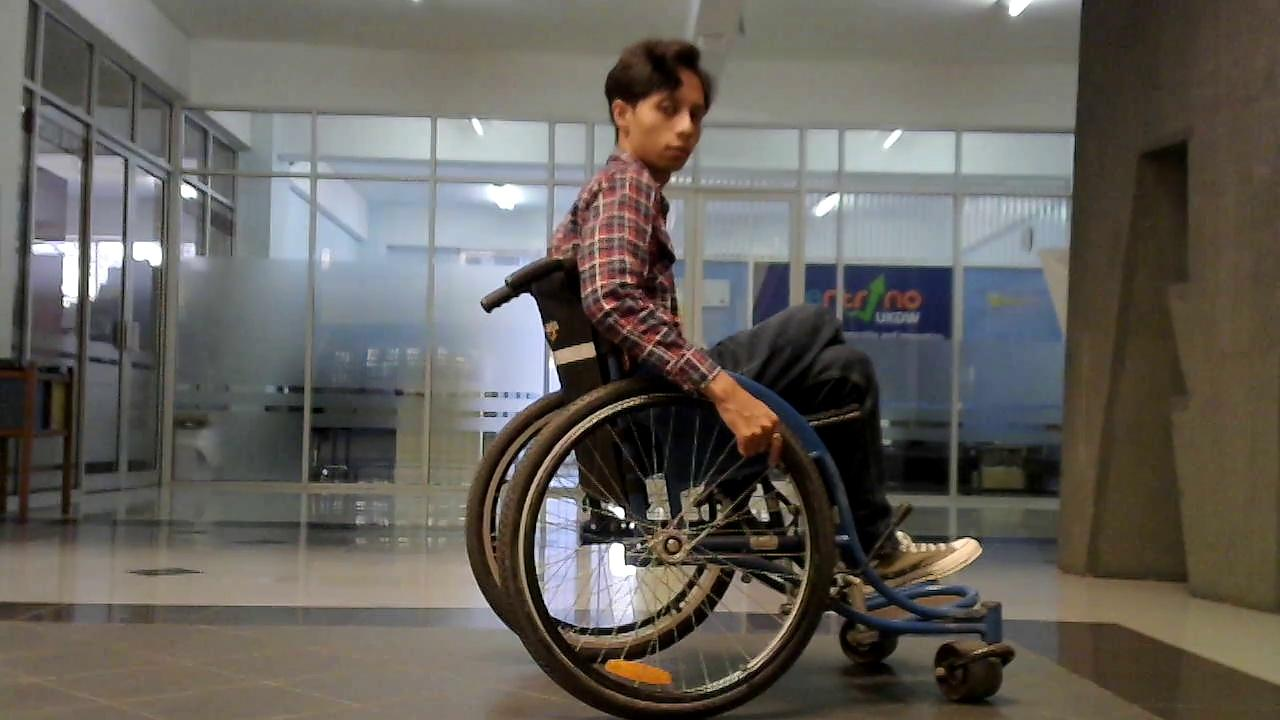person: (548, 40, 981, 603)
wheelchair: (441, 241, 1046, 720)
